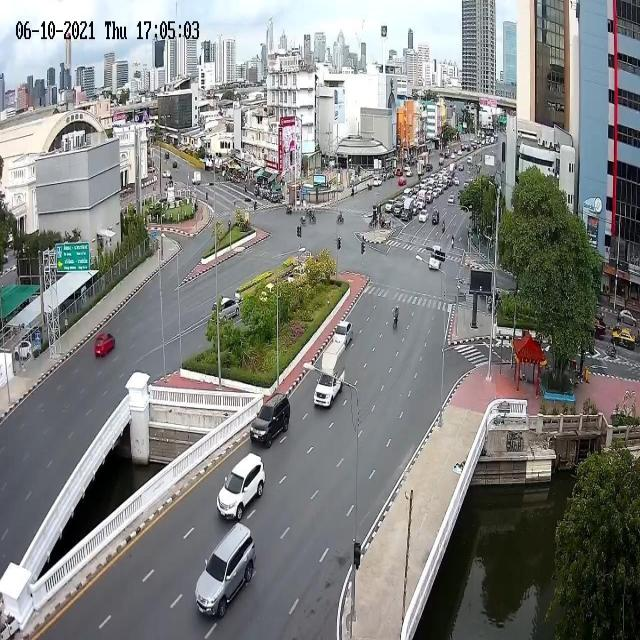Car: (194, 526, 254, 619), (217, 457, 266, 521), (249, 391, 291, 448), (94, 332, 116, 359), (431, 207, 440, 224), (418, 209, 428, 224), (385, 200, 395, 212), (394, 202, 402, 217), (447, 194, 455, 207), (426, 190, 434, 202), (419, 179, 426, 191), (433, 188, 439, 200), (436, 184, 444, 193), (428, 181, 435, 190), (458, 164, 464, 172), (414, 185, 419, 192)
Cycle: (331, 320, 354, 345), (417, 190, 428, 209), (392, 306, 400, 329), (337, 211, 345, 223), (309, 214, 317, 224), (450, 236, 455, 251), (441, 219, 446, 233), (300, 214, 306, 225)
Truck: (313, 343, 347, 412), (401, 198, 414, 222), (192, 169, 202, 185), (402, 187, 412, 201)
Van: (467, 156, 472, 165)
